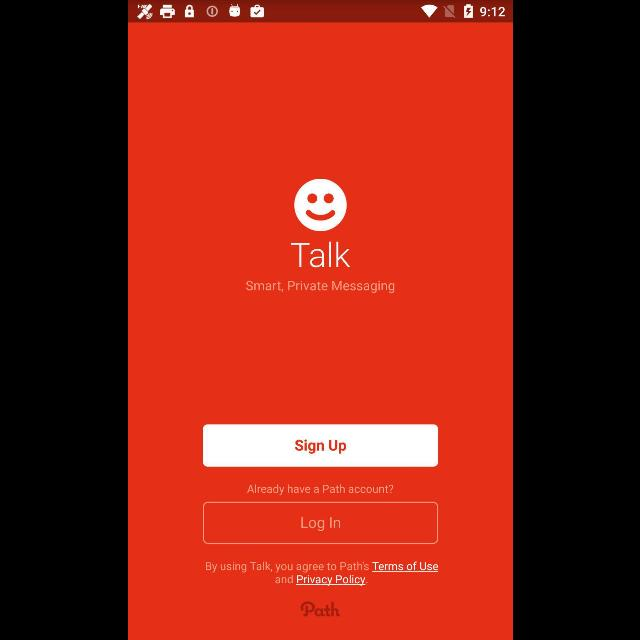image: (293, 178, 347, 232), (300, 600, 340, 618)
text: (205, 560, 438, 586), (244, 280, 396, 294), (246, 483, 394, 495), (290, 242, 350, 268)
textbutton: (202, 502, 438, 544), (202, 425, 438, 467)
uppertaskbar: (128, 1, 512, 23)
